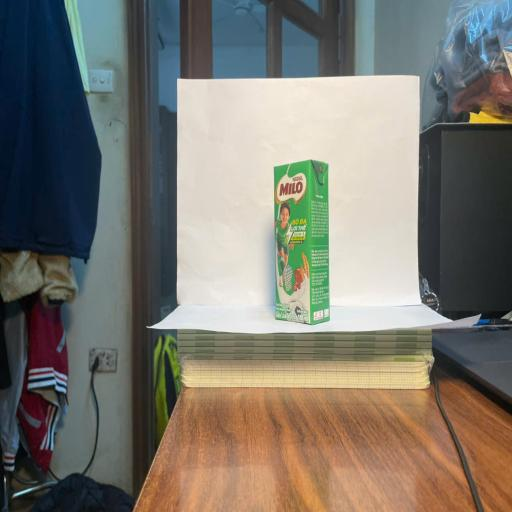milo: (274, 163, 330, 322)
